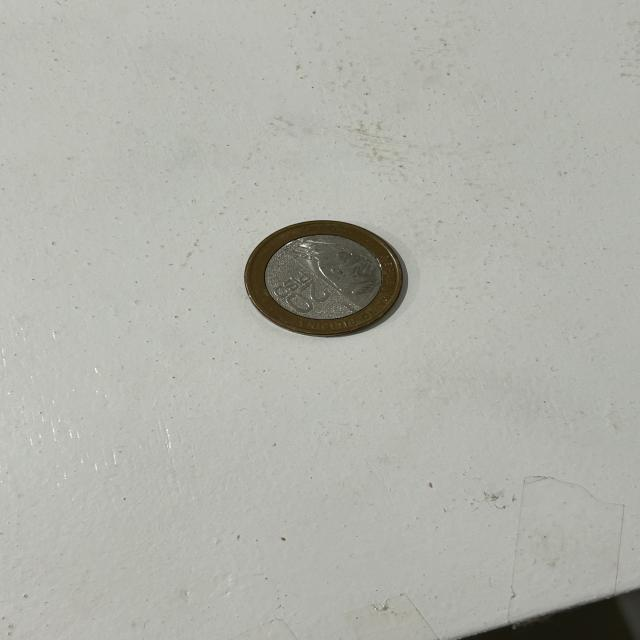20_New_Front: (268, 268, 340, 318)
